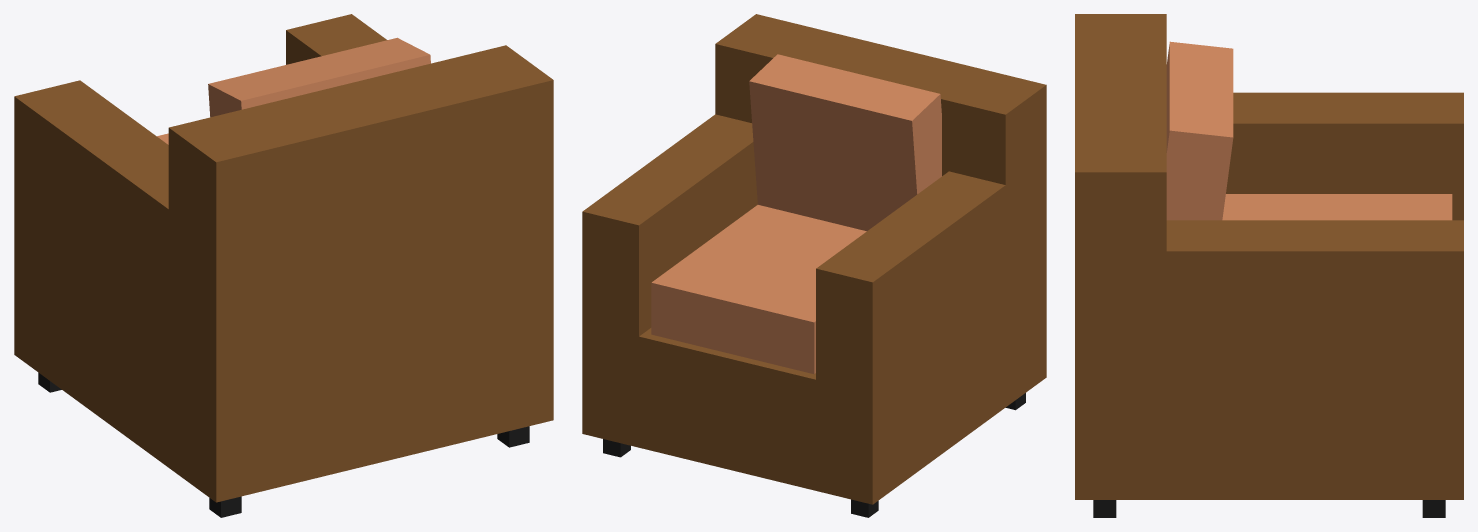
Rendered from armchair.glb.
3 renders of one model, left to right at view 1: azimuth 30°, elevation 25°; view 2: azimuth 150°, elevation 25°; view 3: azimuth 270°, elevation 25°, orthographic. The views are drawn at different scales.
Parts seen in each view (by area): view 1: armchair; view 2: armchair; view 3: armchair.
Part boxes in pixels (left/top/right/bottom): armchair: left=14, top=14, right=553, bottom=517; armchair: left=582, top=14, right=1046, bottom=517; armchair: left=1075, top=14, right=1463, bottom=517.
Bounding box in the file's own units: 0.82 × 0.8671 × 0.85.
